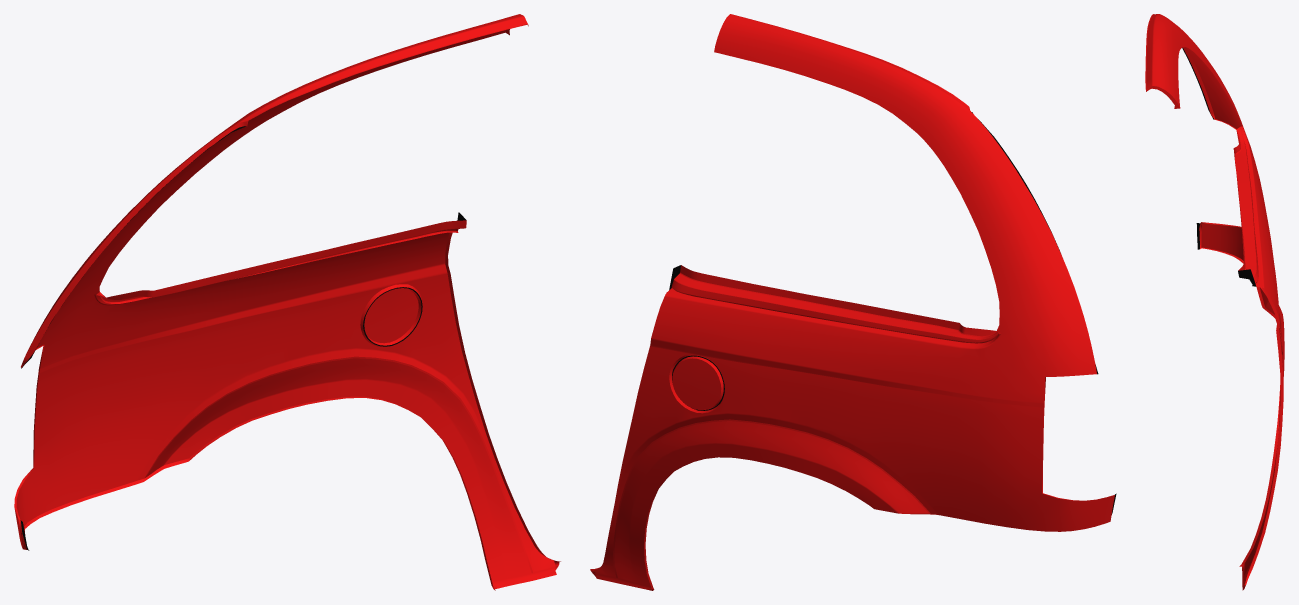
3 renders of one model, left to right at view 1: azimuth 30°, elevation 25°; view 2: azimuth 150°, elevation 25°; view 3: azimuth 270°, elevation 25°, orthographic. The views are drawn at different scales.
Parts seen in each view (by area): view 1: N664_9A_381B_L_1_DaS_N664_9A_381B_L, N664_9A_381B_L_1_DaS_N664_9A_381B_L_E; view 2: N664_9A_381B_L_1_DaS_N664_9A_381B_L, N664_9A_381B_L_1_DaS_N664_9A_381B_L_E; view 3: N664_9A_381B_L_1_DaS_N664_9A_381B_L, N664_9A_381B_L_1_DaS_N664_9A_381B_L_E, N664_9A_381B_L_N664_9A_381B_L_2_D.
Boxes of the visible parts, x1=… form: N664_9A_381B_L_1_DaS_N664_9A_381B_L: x1=14, y1=14, x2=555, y2=585; N664_9A_381B_L_1_DaS_N664_9A_381B_L_E: x1=14, y1=24, x2=560, y2=590; N664_9A_381B_L_1_DaS_N664_9A_381B_L: x1=594, y1=14, x2=1114, y2=589; N664_9A_381B_L_1_DaS_N664_9A_381B_L_E: x1=590, y1=25, x2=1114, y2=590; N664_9A_381B_L_1_DaS_N664_9A_381B_L: x1=1146, y1=14, x2=1284, y2=586; N664_9A_381B_L_1_DaS_N664_9A_381B_L_E: x1=1145, y1=14, x2=1283, y2=590; N664_9A_381B_L_N664_9A_381B_L_2_D: x1=1182, y1=47, x2=1256, y2=286.
Size of the model in its own units: 133 by 139 by 37.28.
